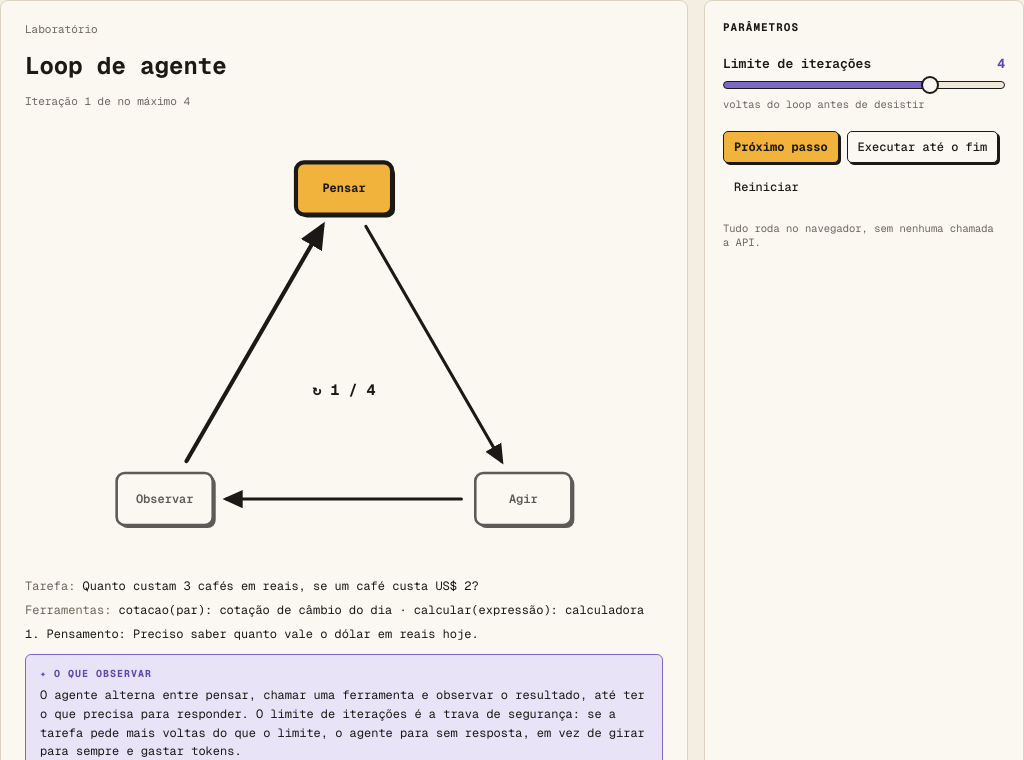
Scenario: AgentLoopPlayground (LAB-01.1) › para no limite de iterações com aviso
Set the slider labelled "Limite de iterações" to "2": (798, 85) [723,81,1005,89]
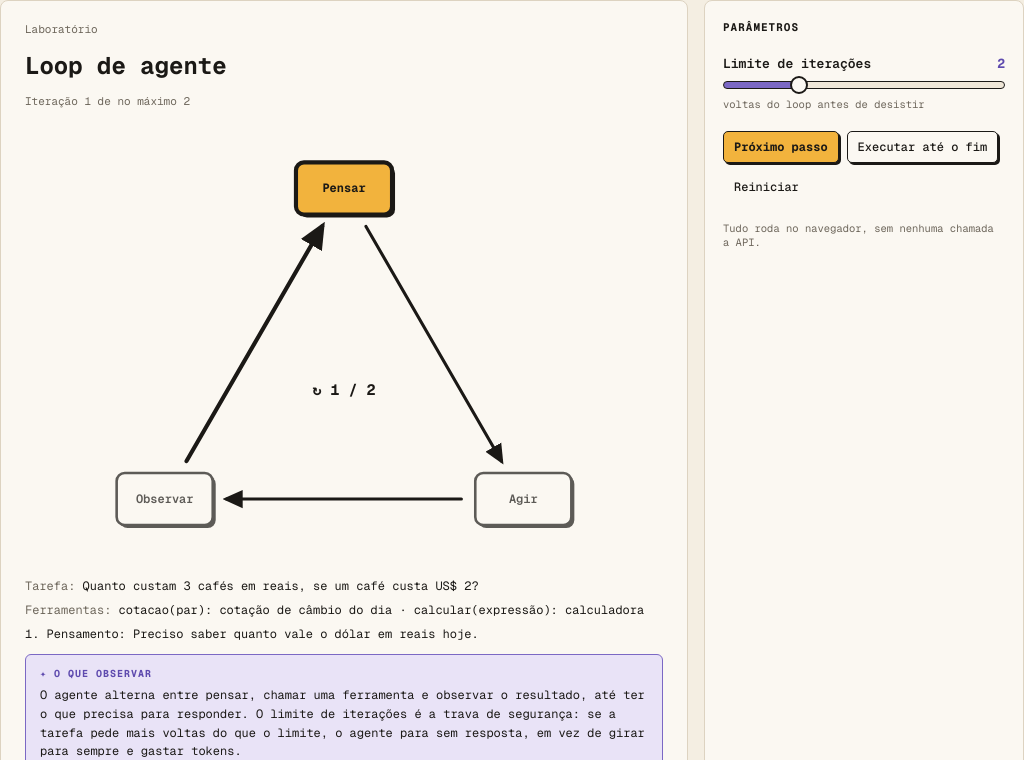
Click the button "Executar até o fim": (922, 147) [847,131,998,163]
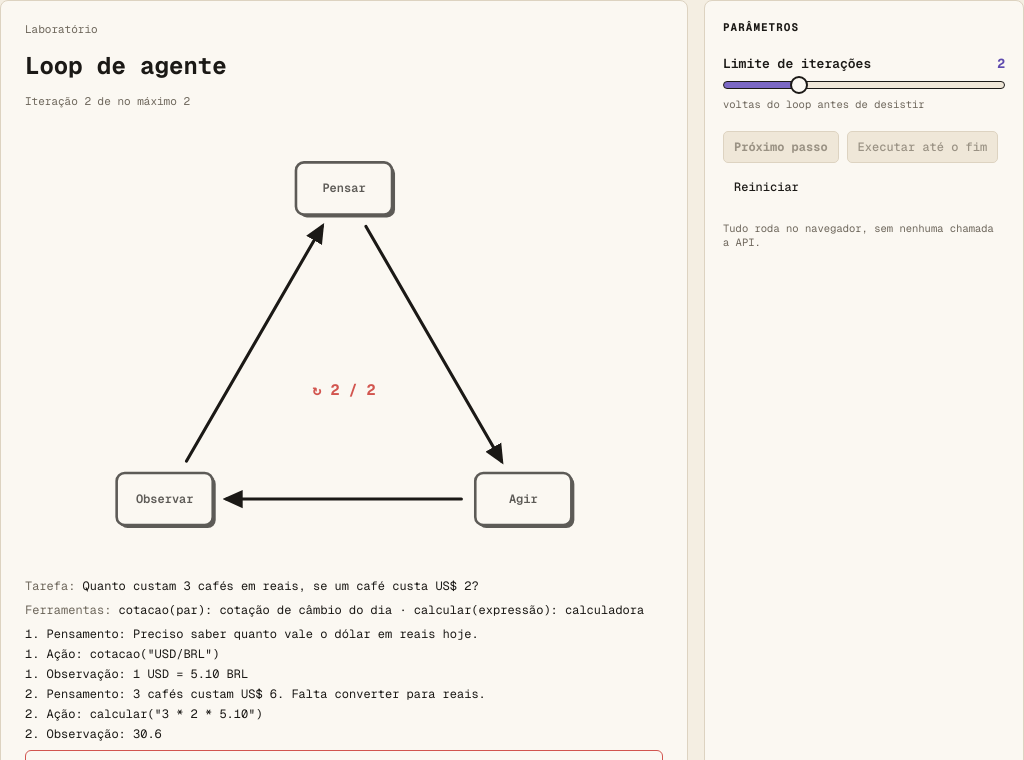
Expected: the number of list items is 6, [25,626,479,642]; [25,646,219,662]; [25,666,248,682]; [25,686,486,702]; [25,706,263,722]; [25,726,162,742]
Expected: the button "Próximo passo" is disabled, [723,131,839,163]
